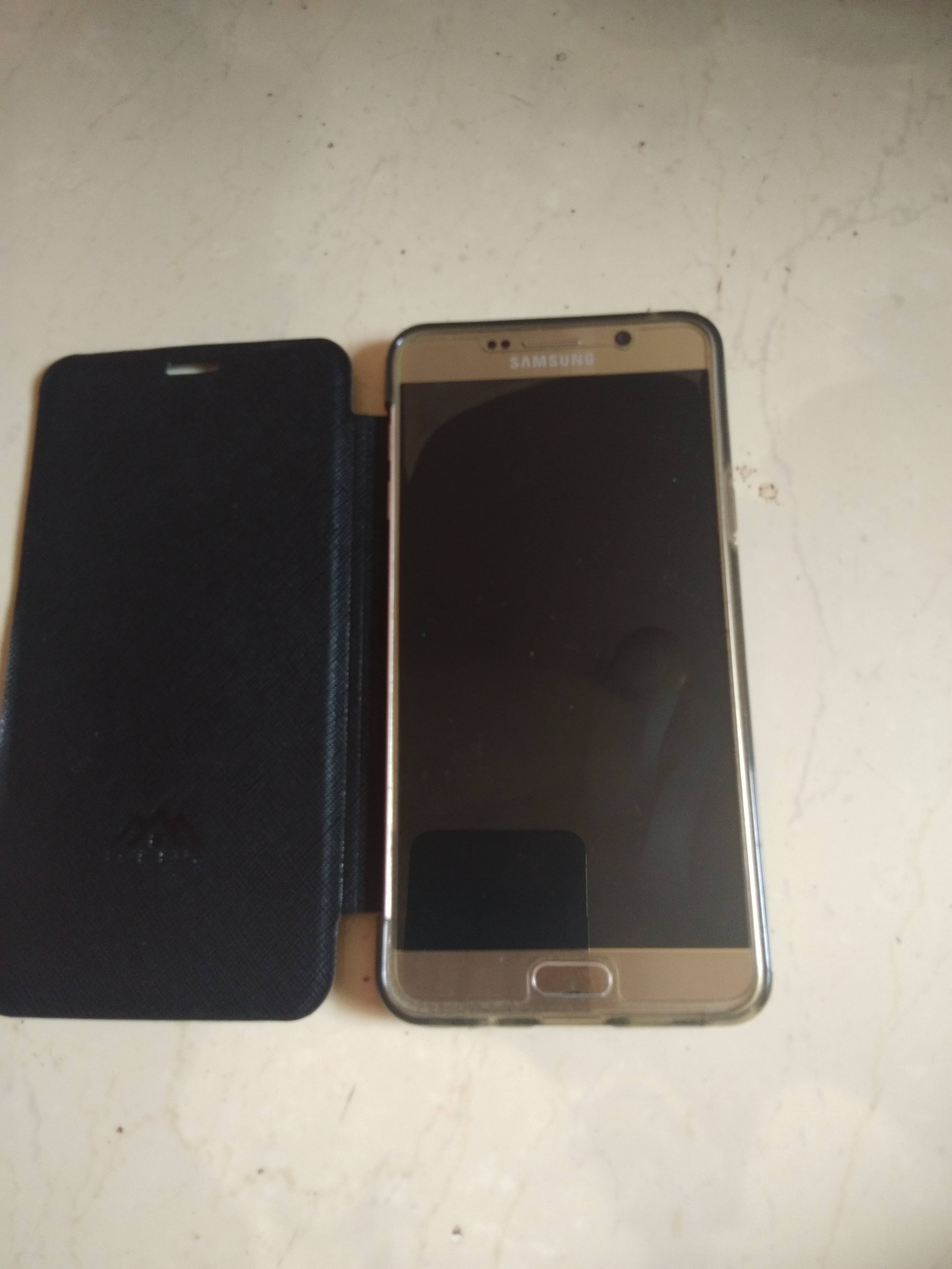Electronics: (339, 280, 794, 1057)
